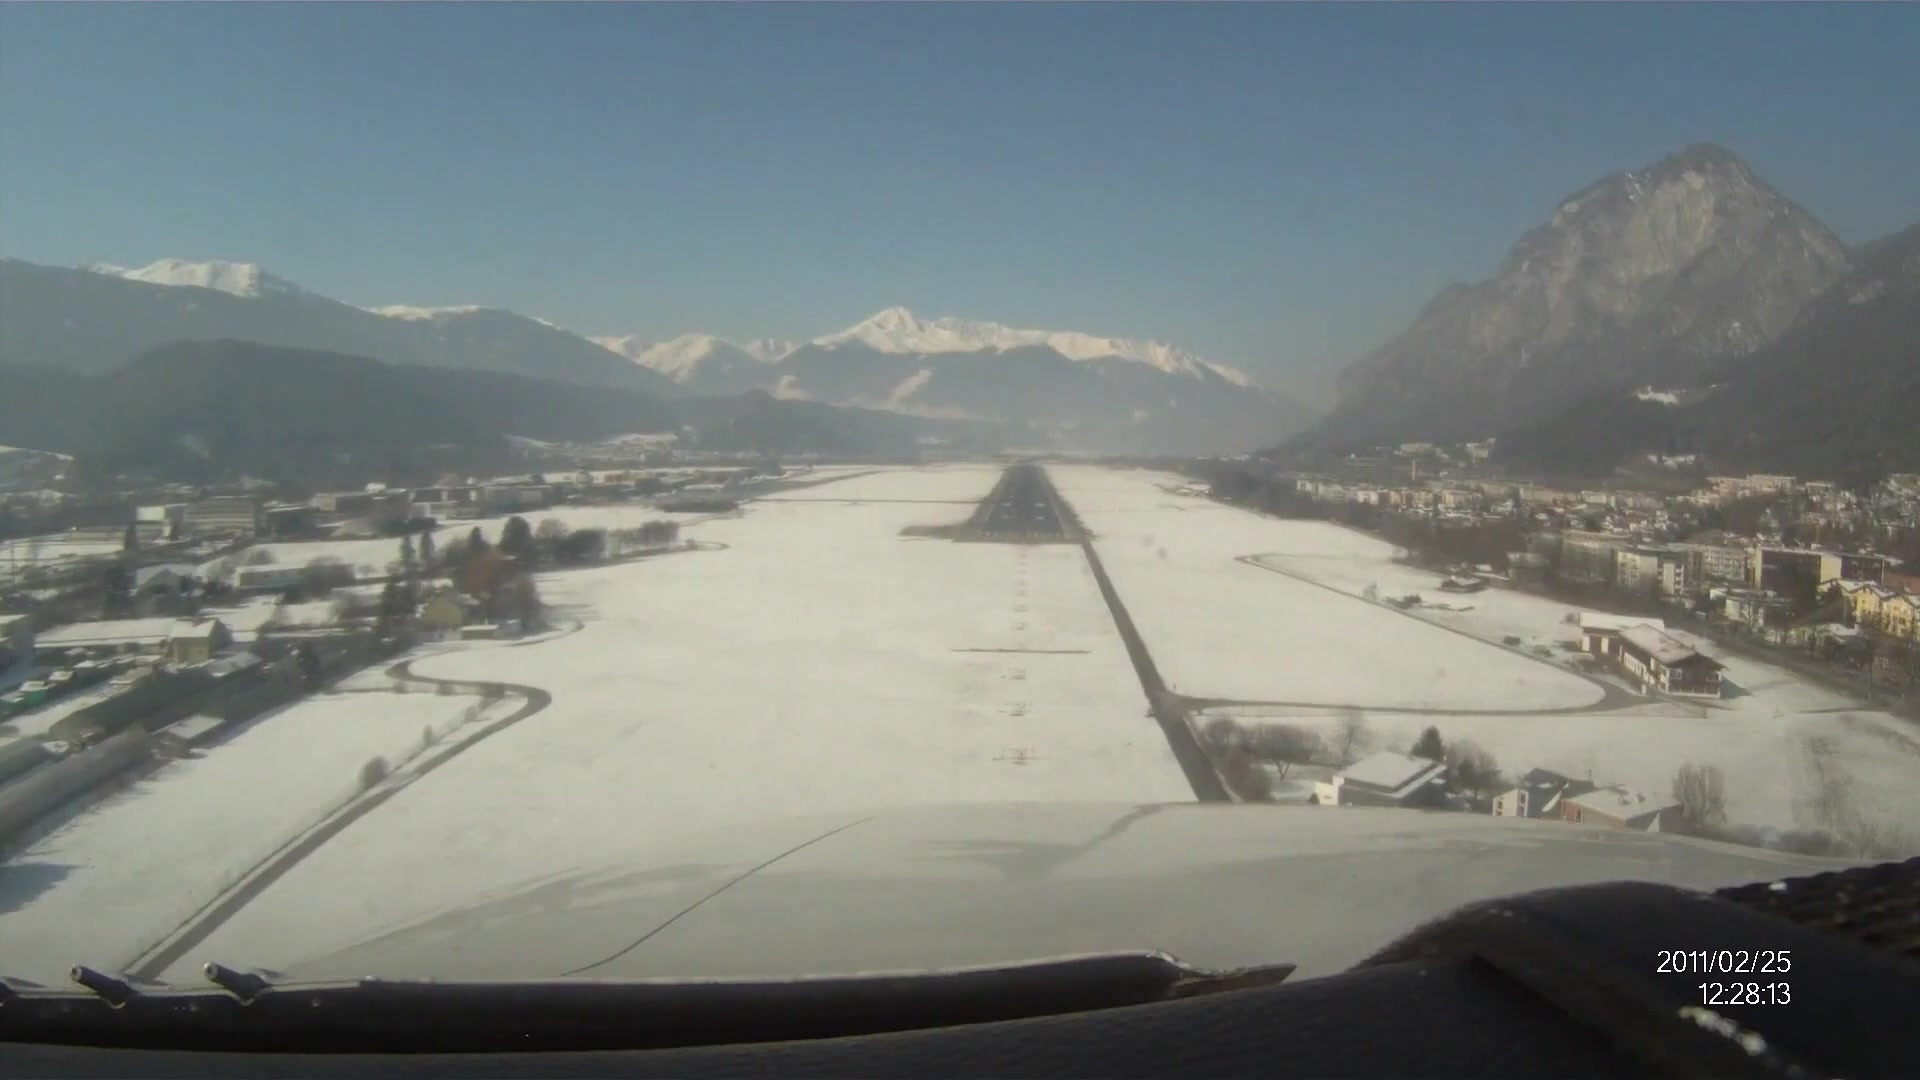entrance: (978, 527, 1065, 541)
runway: (977, 464, 1065, 542)
